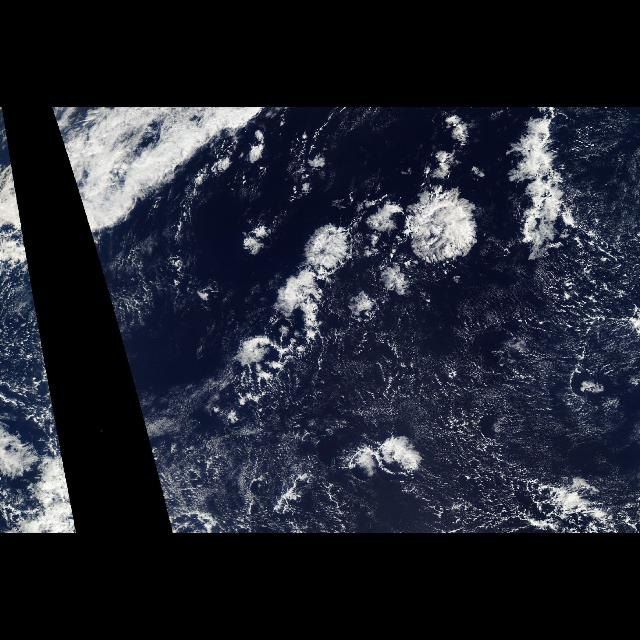Flower: (205, 155, 500, 405)
Gravel: (284, 259, 634, 531)
Sugar: (386, 269, 640, 471)
